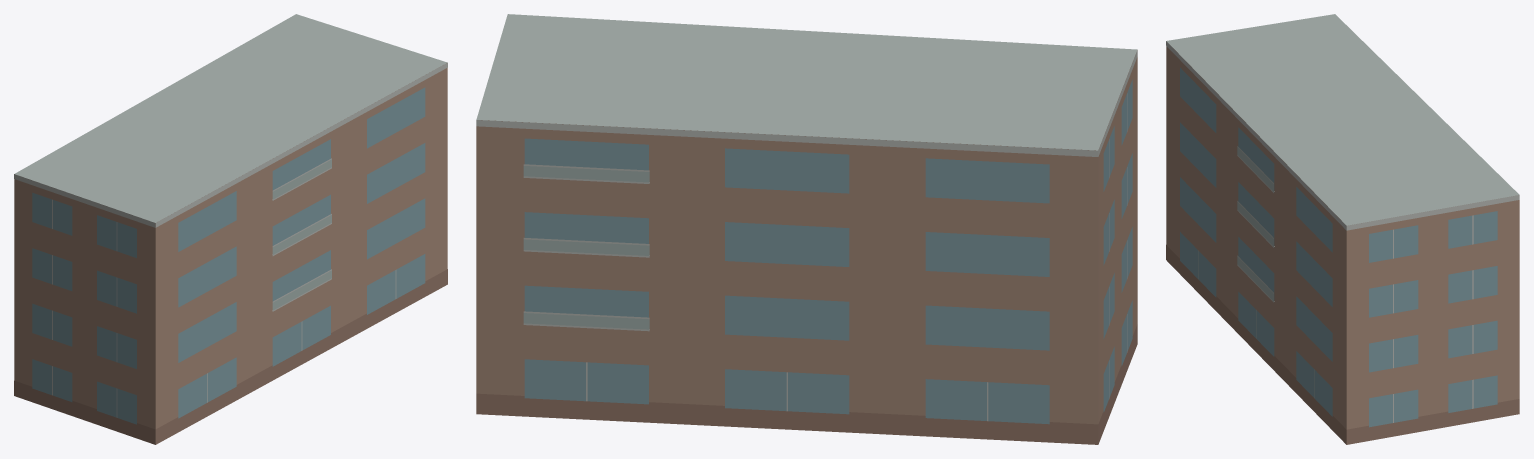
The model's file is survey-upis-32851268.glb.
3 views of the same model, side by side, from view 1: azimuth 30°, elevation 25°; view 2: azimuth 150°, elevation 25°; view 3: azimuth 270°, elevation 25° (orthographic). The views are drawn at different scales.
Visible parts, largest first — view 1: survey-upis-32851268.tmp; view 2: survey-upis-32851268.tmp; view 3: survey-upis-32851268.tmp.
Part boxes in pixels (box(x1,y1,x2,y2)): survey-upis-32851268.tmp: box(14, 14, 447, 444); survey-upis-32851268.tmp: box(476, 14, 1137, 444); survey-upis-32851268.tmp: box(1166, 14, 1519, 444).
Size of the model in its own units: 22.7 by 10.95 by 16.02.
